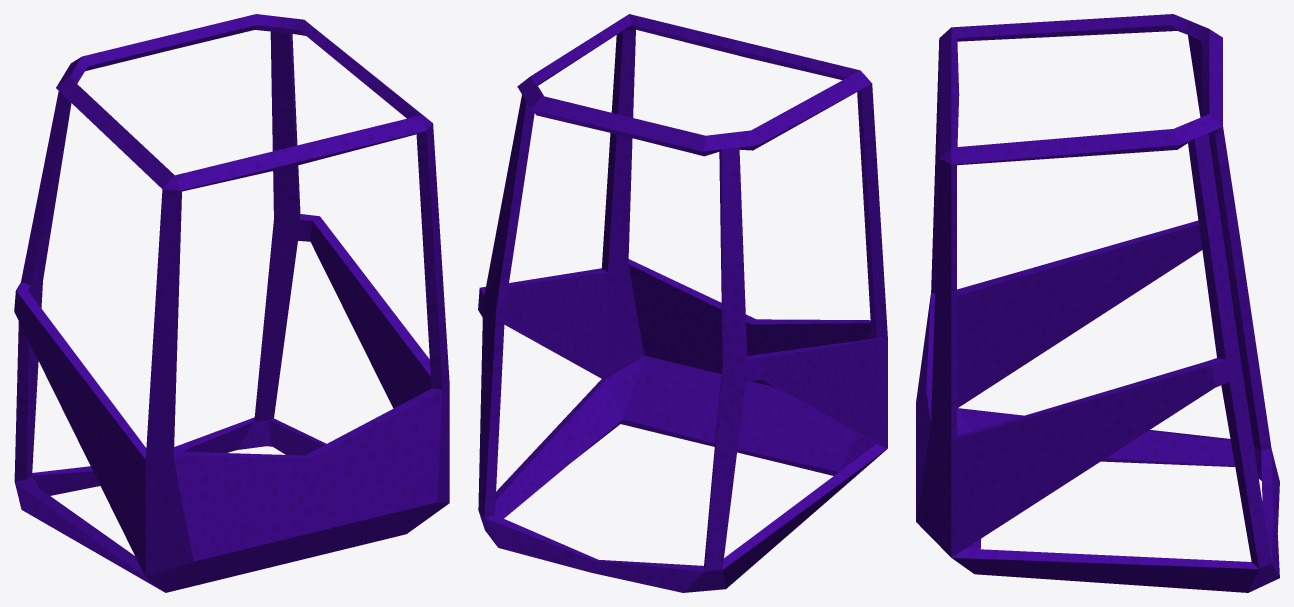
Rendered from Speaker_cage_1stCol_LOD0.fbx.
3 renders of one model, left to right at view 1: azimuth 30°, elevation 25°; view 2: azimuth 150°, elevation 25°; view 3: azimuth 270°, elevation 25°, orthographic. The views are drawn at different scales.
Visible parts, largest first — view 1: Speaker_cage_1stCol_LOD0; view 2: Speaker_cage_1stCol_LOD0; view 3: Speaker_cage_1stCol_LOD0.
Boxes of the visible parts, x1,y1,x2,y2 form: Speaker_cage_1stCol_LOD0: (14, 14, 449, 592); Speaker_cage_1stCol_LOD0: (478, 14, 887, 592); Speaker_cage_1stCol_LOD0: (916, 14, 1279, 592).
Bounding box in the file's own units: 94.56 × 138 × 97.75.
